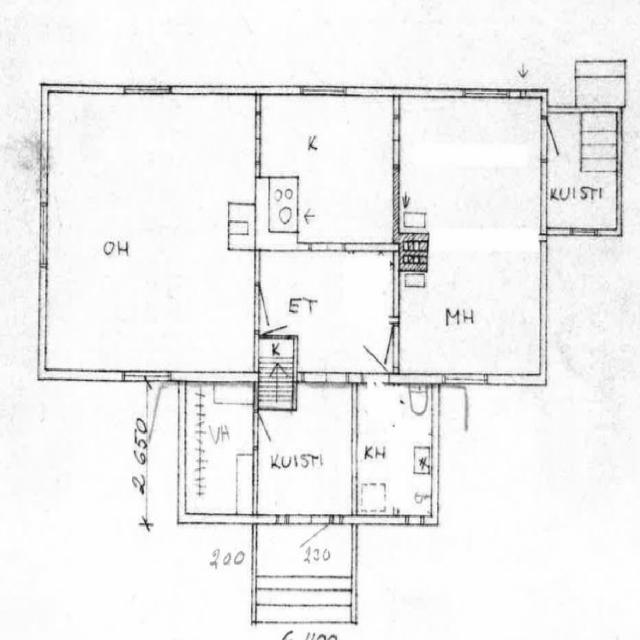door: (290, 516, 328, 576), (254, 285, 294, 332), (360, 323, 399, 368), (541, 118, 578, 160), (362, 339, 388, 383), (261, 299, 287, 339)
